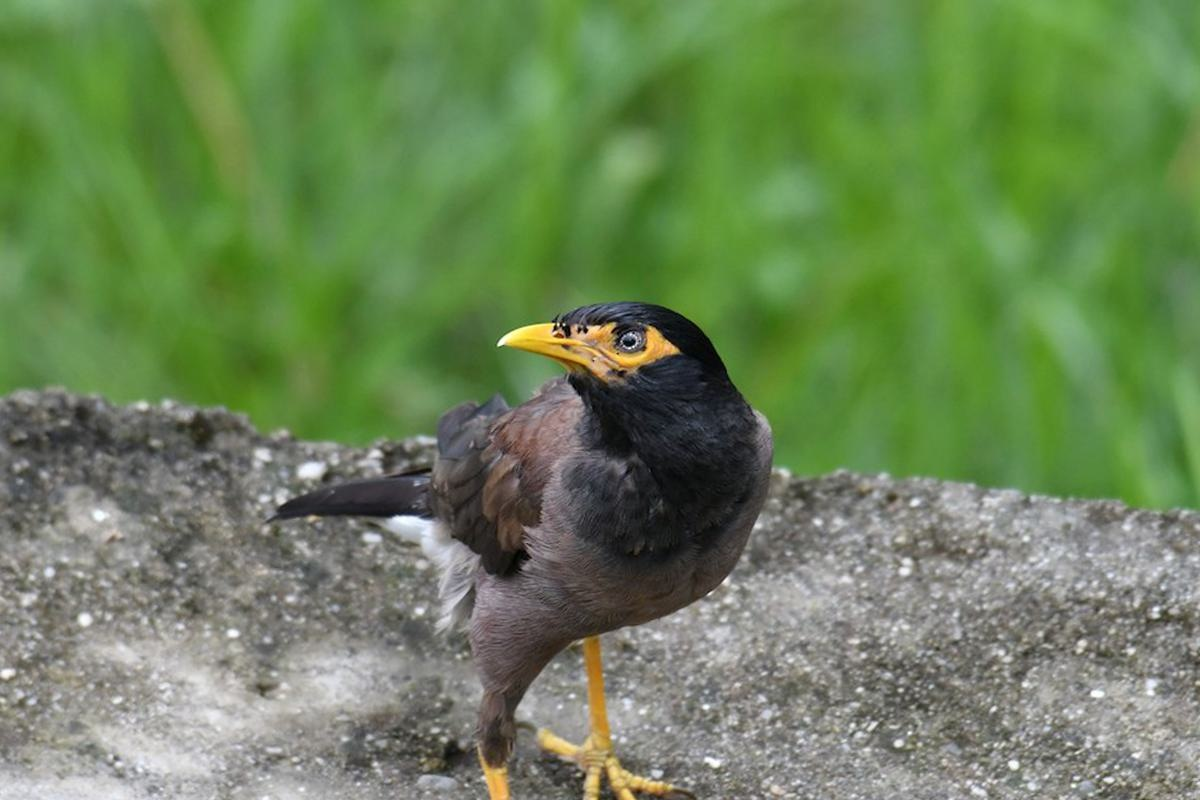myna: (259, 283, 850, 800)
